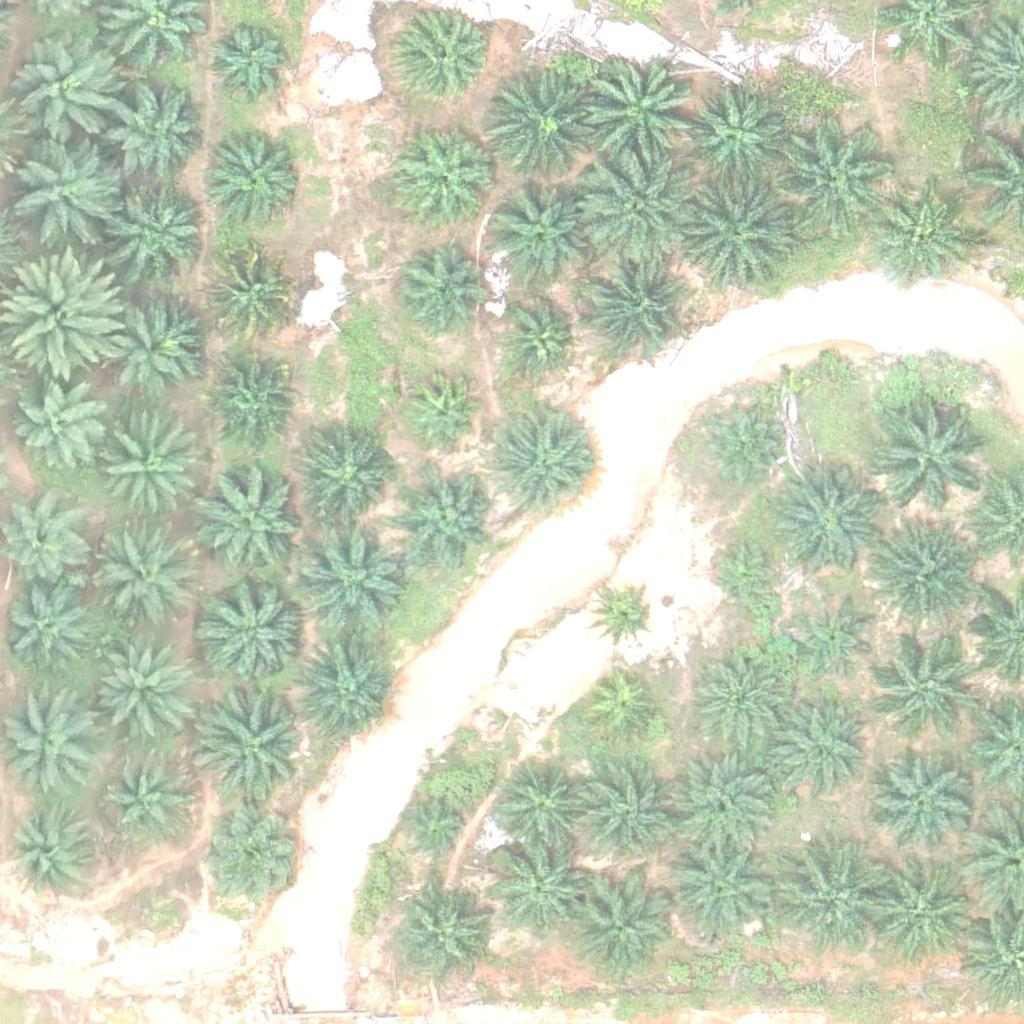Kelapa_Sawit: (3, 253, 128, 379), (677, 177, 790, 291), (5, 131, 118, 245), (874, 395, 987, 508), (768, 468, 881, 581), (666, 746, 779, 859), (663, 834, 776, 947), (565, 873, 678, 986), (294, 519, 407, 632), (195, 463, 308, 576), (199, 574, 312, 687), (484, 73, 597, 186), (12, 37, 125, 150), (873, 626, 985, 740), (771, 843, 883, 957), (861, 862, 973, 975), (864, 523, 976, 636), (777, 119, 889, 232), (585, 152, 697, 265), (198, 686, 310, 799), (584, 56, 696, 169), (868, 751, 968, 852), (485, 182, 585, 283), (768, 702, 868, 803), (576, 768, 676, 869), (491, 759, 591, 860), (293, 640, 393, 741), (393, 885, 493, 986), (205, 124, 305, 225), (201, 813, 301, 914), (112, 183, 212, 284), (98, 420, 198, 521), (93, 532, 193, 633), (89, 640, 189, 741), (684, 83, 784, 184), (873, 192, 973, 292), (583, 257, 683, 357), (493, 417, 593, 517), (691, 650, 791, 750), (486, 839, 586, 939), (396, 125, 496, 225), (399, 470, 499, 570), (107, 90, 207, 190), (97, 290, 197, 390), (394, 10, 494, 110), (791, 596, 879, 684), (696, 404, 784, 492), (393, 242, 481, 330), (304, 437, 392, 525), (204, 248, 292, 336), (203, 17, 291, 105), (207, 356, 294, 444), (107, 758, 194, 846), (9, 807, 96, 895), (15, 380, 102, 468), (405, 373, 480, 449), (500, 299, 575, 374), (708, 535, 783, 610), (584, 673, 659, 748), (399, 797, 474, 872), (593, 586, 656, 649)
